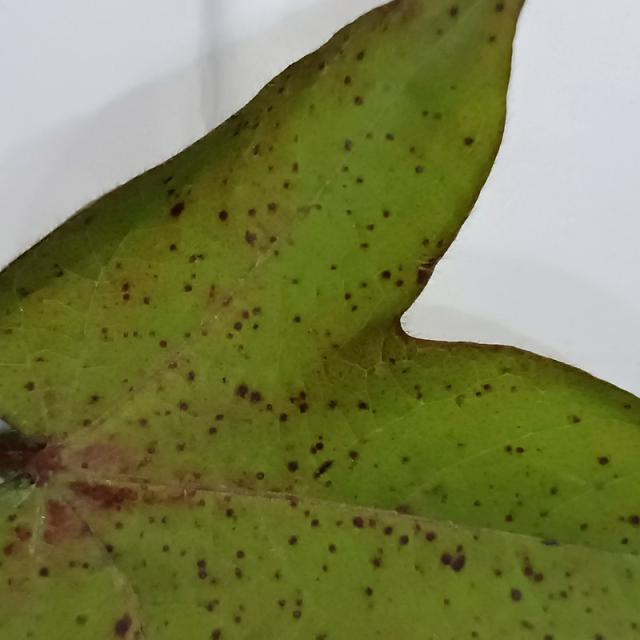Bacterial_Blight: (229, 188, 298, 251), (70, 480, 135, 512), (351, 233, 383, 257), (113, 612, 133, 637), (295, 201, 323, 217), (346, 443, 363, 466), (314, 459, 334, 478), (416, 266, 434, 286), (13, 525, 32, 542), (450, 553, 466, 572), (169, 201, 185, 217), (244, 230, 257, 246), (440, 552, 453, 567), (357, 398, 369, 414), (395, 504, 412, 515), (235, 384, 248, 398), (510, 588, 523, 602), (207, 283, 217, 300), (249, 390, 262, 403), (285, 495, 298, 508), (286, 460, 299, 472), (23, 380, 36, 392), (52, 265, 64, 278), (75, 614, 88, 626), (520, 620, 534, 631), (38, 566, 50, 578), (352, 516, 364, 528), (627, 514, 639, 526), (542, 538, 560, 546), (218, 209, 229, 222), (424, 531, 436, 542), (206, 601, 217, 613), (371, 556, 382, 568), (455, 395, 466, 407), (17, 287, 30, 297), (383, 525, 394, 536), (399, 534, 410, 545), (196, 559, 207, 570), (298, 402, 308, 414), (449, 6, 459, 18), (523, 565, 533, 577), (597, 456, 610, 465), (225, 507, 235, 518), (288, 535, 298, 546), (104, 543, 114, 554), (380, 270, 391, 280), (353, 95, 363, 106), (197, 569, 207, 580), (344, 139, 353, 151), (162, 175, 174, 184), (179, 401, 189, 411), (310, 518, 320, 528), (267, 202, 277, 212), (292, 610, 302, 620), (495, 2, 505, 12), (187, 370, 196, 381), (463, 137, 474, 146), (234, 567, 243, 578), (440, 492, 449, 503), (208, 426, 218, 435), (90, 394, 100, 403), (138, 418, 148, 427), (255, 471, 265, 480), (401, 455, 411, 464), (277, 598, 286, 608), (233, 321, 242, 331), (356, 51, 365, 61), (343, 75, 352, 85), (121, 282, 130, 292), (414, 165, 424, 174), (534, 572, 543, 582), (365, 586, 373, 597), (279, 413, 288, 422), (328, 544, 337, 553), (159, 339, 168, 348), (549, 486, 558, 495), (247, 208, 256, 217), (236, 550, 245, 559), (241, 310, 250, 319), (488, 34, 497, 43), (515, 446, 525, 454), (579, 523, 589, 531), (292, 162, 299, 173), (169, 243, 177, 252), (143, 296, 151, 305), (184, 284, 193, 292), (162, 544, 170, 553), (621, 537, 630, 545), (572, 415, 581, 423), (122, 292, 130, 301), (80, 461, 89, 469), (385, 133, 394, 141), (211, 633, 221, 640), (293, 315, 301, 323), (505, 514, 513, 522), (382, 210, 390, 218), (189, 255, 197, 263), (473, 500, 482, 507), (624, 403, 633, 410), (344, 292, 351, 300), (366, 224, 374, 231), (443, 598, 450, 606), (543, 636, 553, 640), (594, 636, 604, 640)
Cotton: (0, 0, 639, 639)
